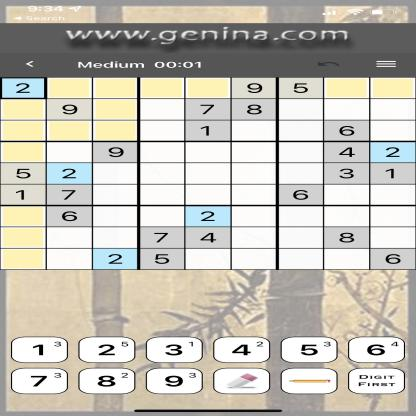sudoku: (0, 77, 416, 271)
